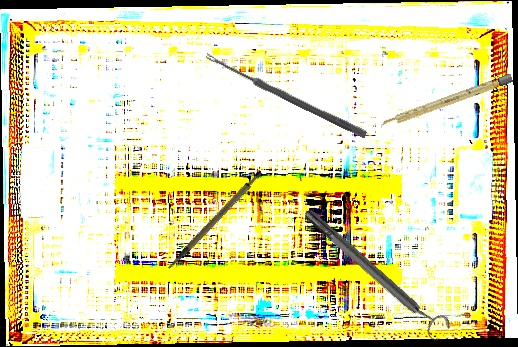Fixation Ring: (297, 200, 455, 345)
Scalpel Handle: (153, 168, 275, 270), (378, 73, 514, 130)
Surgical Spoon: (204, 52, 368, 139)
